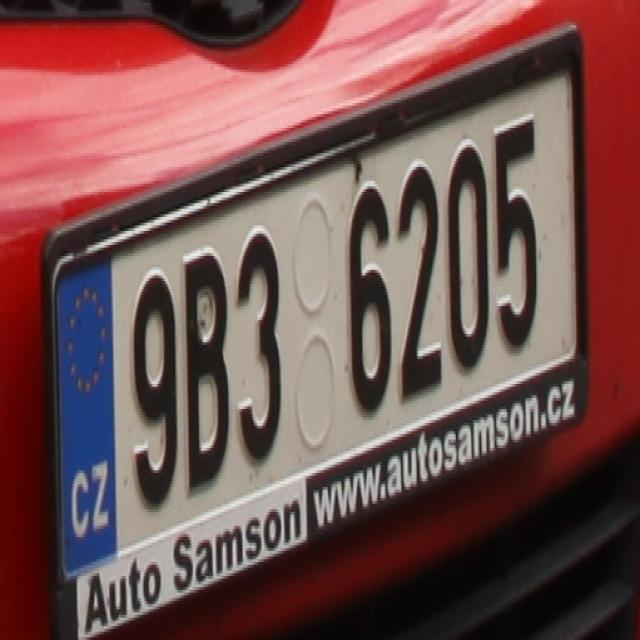0: (446, 128, 492, 378)
2: (397, 159, 443, 398)
3: (236, 222, 283, 468)
5: (492, 111, 541, 348)
6: (344, 173, 394, 420)
9: (131, 267, 178, 507)
B: (183, 242, 232, 493)
